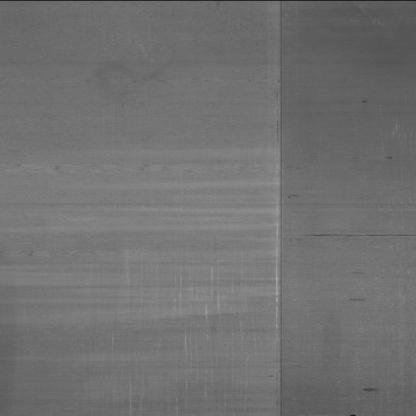welding_line: (263, 0, 294, 415)
